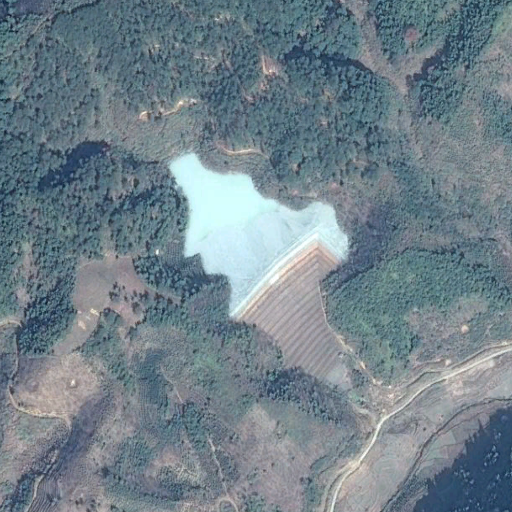tp: (167, 150, 367, 400)
